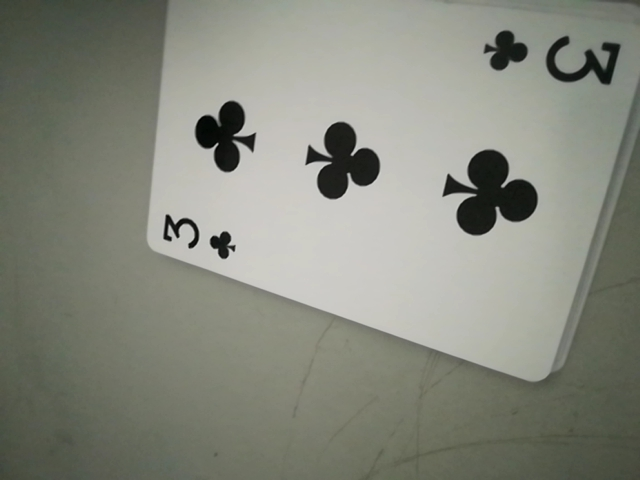mh 3: (481, 21, 620, 94), (156, 207, 245, 265)
